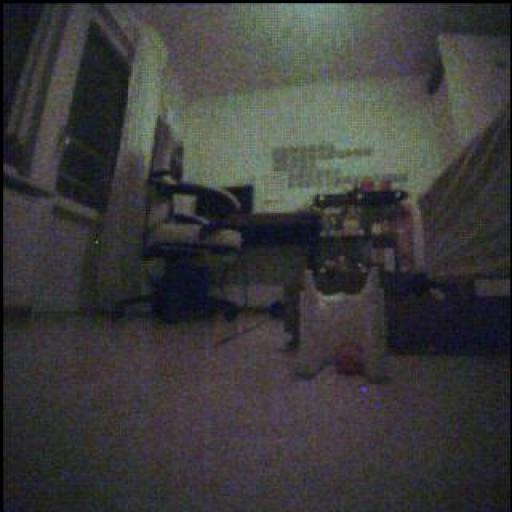basket: (333, 340, 367, 379)
